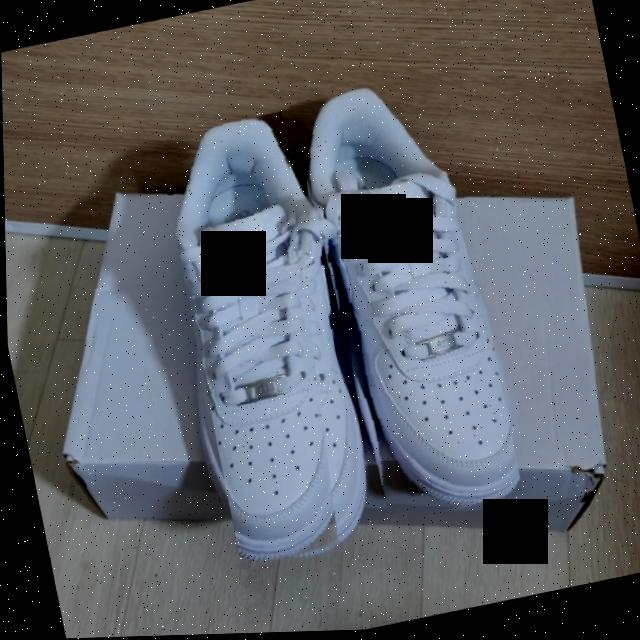shoe: (287, 74, 521, 529), (155, 111, 367, 574)
